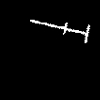double_crochet: (30, 20, 89, 42)
